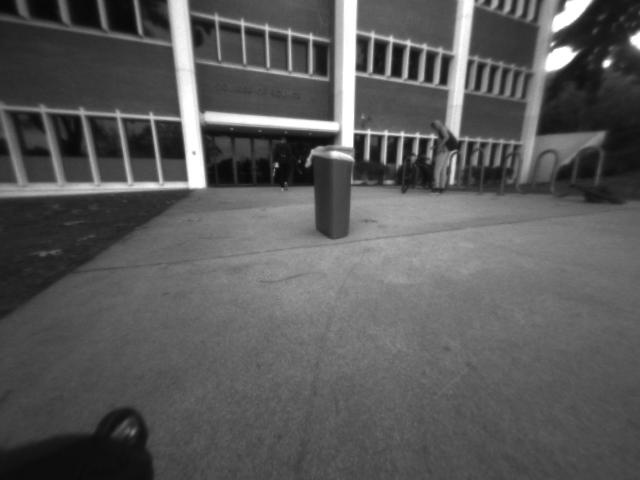trashcan_open: (307, 139, 359, 243)
